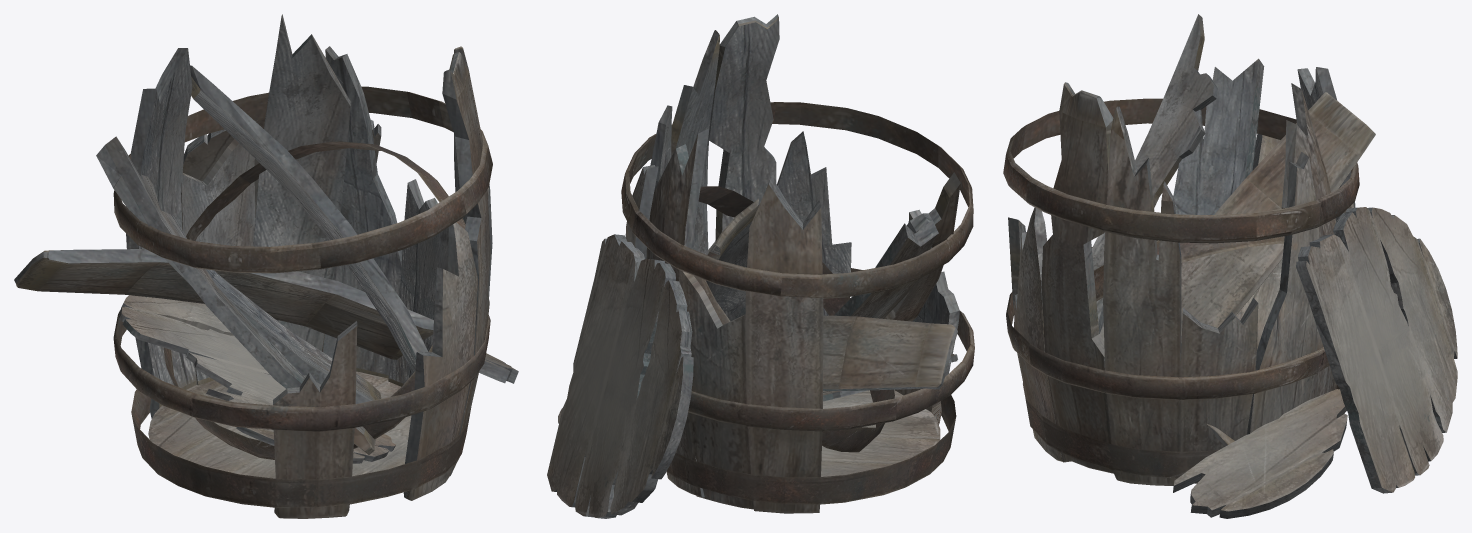
The model's file is Barrel1.obj.
The picture shows the model from 3 angles, left to right: view 1: azimuth 30°, elevation 25°; view 2: azimuth 150°, elevation 25°; view 3: azimuth 270°, elevation 25°; orthographic projection. The views are drawn at different scales.
Visible parts, largest first — view 1: group_004; view 2: group_004; view 3: group_004.
Boxes of the visible parts, box(x1,y1,x2,y2) form: group_004: box(14, 14, 518, 518); group_004: box(547, 14, 974, 518); group_004: box(1003, 14, 1457, 518).
Bounding box in the file's own units: 1.17 × 1.03 × 1.11.
Materials: 1 (1 with a texture image).
